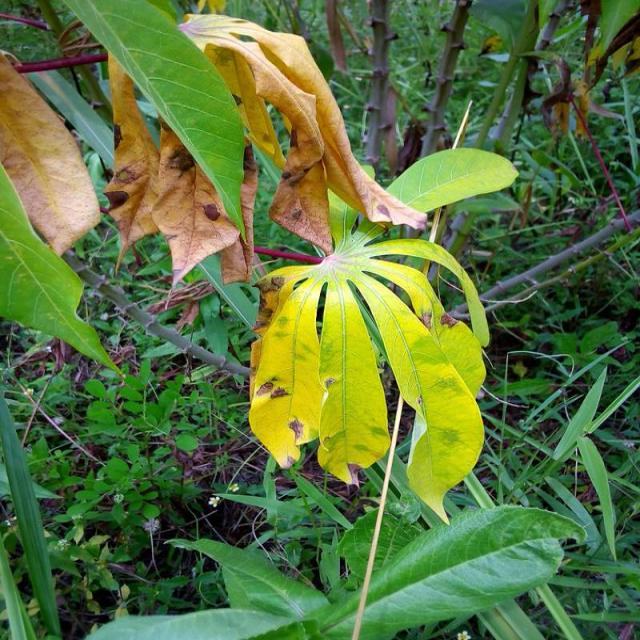cassava leaf: (247, 191, 489, 523), (65, 0, 248, 243), (0, 160, 121, 374), (384, 145, 520, 216)
